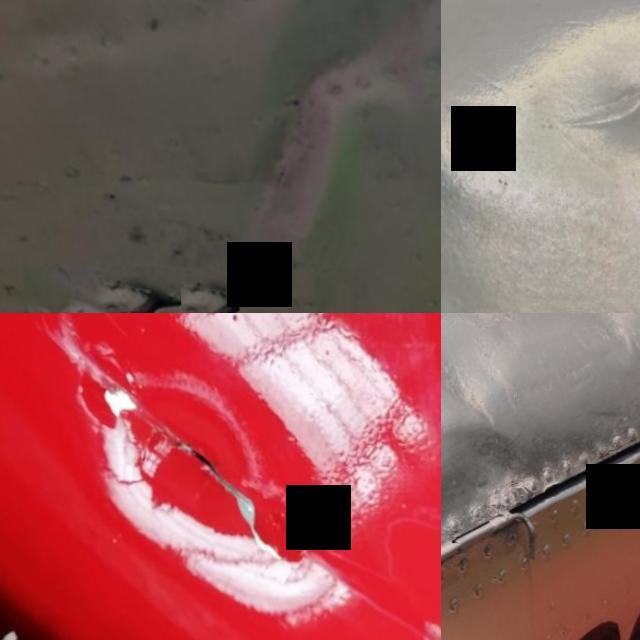Crack: (114, 321, 313, 640), (174, 271, 233, 313)
Dent: (187, 0, 441, 292), (509, 5, 640, 189), (18, 263, 313, 313), (441, 320, 511, 448)
